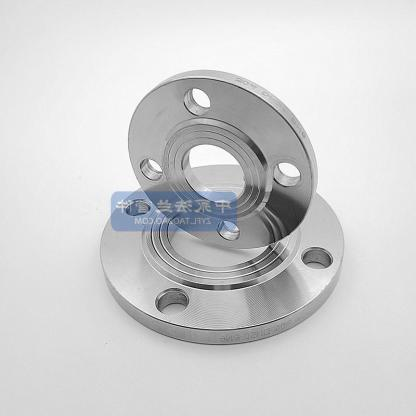FOD: (93, 162, 352, 348), (124, 64, 321, 254)
